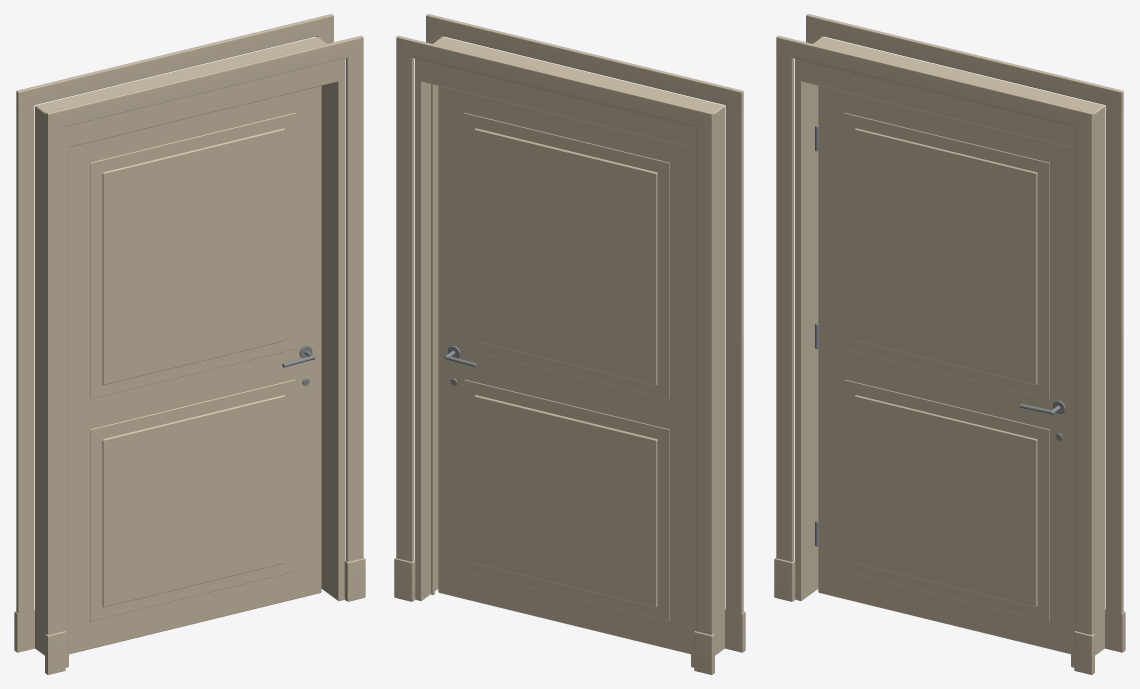
File: prop_door_service_ivory_t20.glb
3 views of the same model, side by side, from view 1: azimuth 30°, elevation 25°; view 2: azimuth 150°, elevation 25°; view 3: azimuth 330°, elevation 25° (orthographic).
Visible parts, largest first — view 1: LeafMesh, Frame; view 2: LeafMesh, Frame; view 3: LeafMesh, Frame.
Boxes of the visible parts, left/top/right/bottom form: LeafMesh: left=69, top=86, right=321, bottom=654; Frame: left=14, top=14, right=365, bottom=674; LeafMesh: left=438, top=86, right=690, bottom=654; Frame: left=394, top=14, right=745, bottom=674; LeafMesh: left=815, top=86, right=1070, bottom=654; Frame: left=774, top=14, right=1125, bottom=674.
Size of what is drawn, in the model's own units: 1.35 by 2.27 by 0.248.
